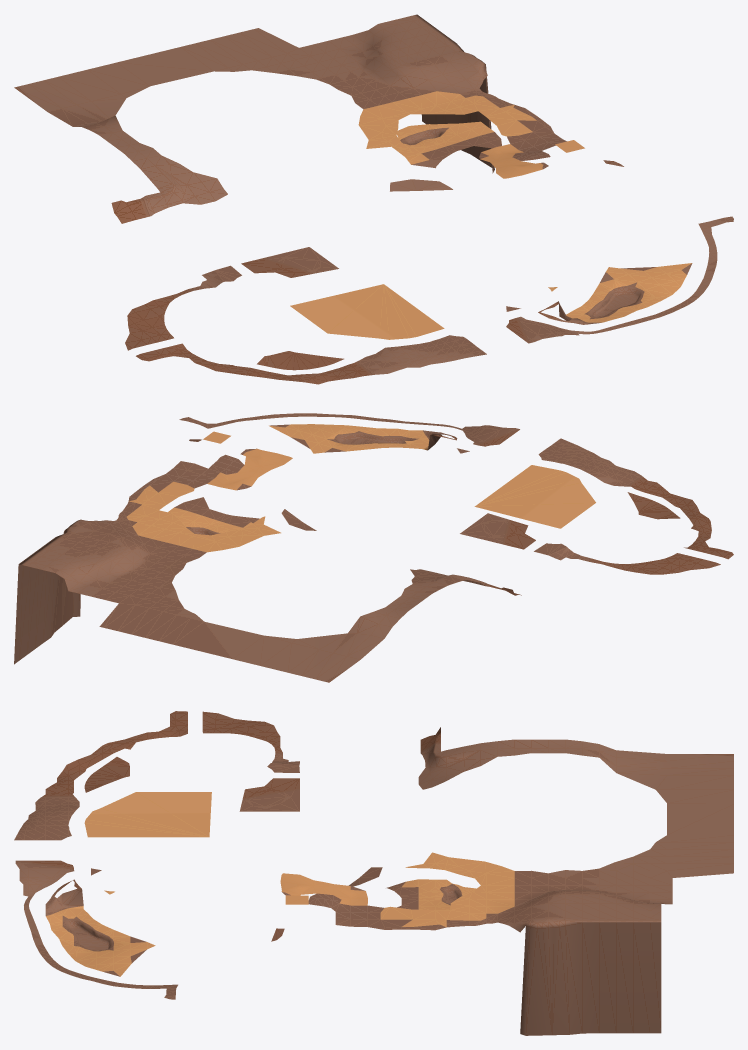
File: objects_un_c01terrain01.gltf
3 views of the same model, one above another, from view 1: azimuth 30°, elevation 25°; view 2: azimuth 150°, elevation 25°; view 3: azimuth 270°, elevation 25° (orthographic). The views are drawn at different scales.
Visible parts, largest first — view 1: objects_un_c01terrain01; view 2: objects_un_c01terrain01; view 3: objects_un_c01terrain01.
Boxes of the visible parts, x1=… form: objects_un_c01terrain01: x1=14, y1=14, x2=733, y2=384; objects_un_c01terrain01: x1=14, y1=413, x2=733, y2=682; objects_un_c01terrain01: x1=14, y1=711, x2=733, y2=1035.
Size of the model in its own units: 472 by 89.49 by 498.
3 materials, 3 textured.
